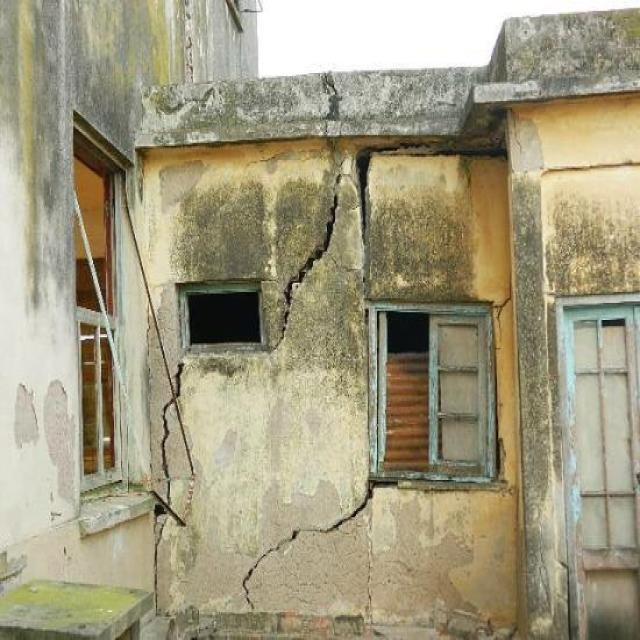crack: (242, 477, 397, 615), (347, 134, 507, 249), (274, 200, 337, 348), (158, 361, 188, 508), (152, 494, 186, 613)
